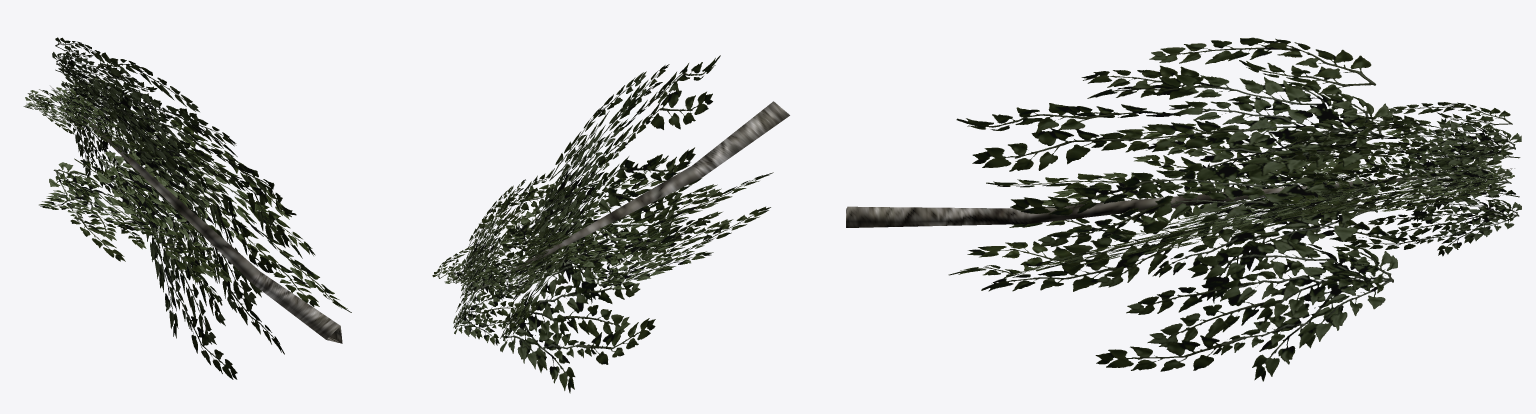
File: MEP_Birch_01_g_LOD_03.fbx
3 renders of one model, left to right at view 1: azimuth 30°, elevation 25°; view 2: azimuth 150°, elevation 25°; view 3: azimuth 270°, elevation 25°, orthographic. The views are drawn at different scales.
Parts seen in each view (by area): view 1: MEP_Birch_01_g_LOD_03; view 2: MEP_Birch_01_g_LOD_03; view 3: MEP_Birch_01_g_LOD_03.
Boxes of the visible parts, bbox=[...] form: MEP_Birch_01_g_LOD_03: bbox=[23, 37, 351, 379]; MEP_Birch_01_g_LOD_03: bbox=[432, 55, 789, 393]; MEP_Birch_01_g_LOD_03: bbox=[846, 37, 1521, 381].
Bounding box in the file's own units: 5.87 × 8.04 × 13.53.
